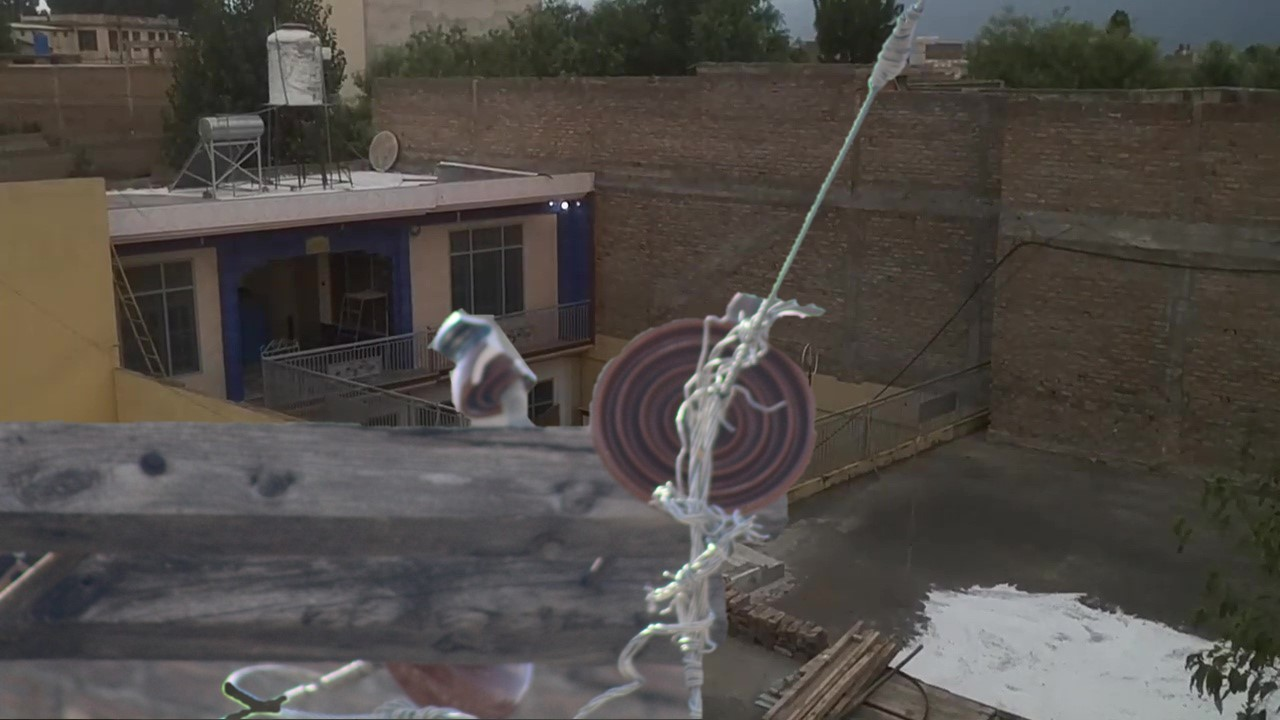defect_pin: (426, 296, 540, 433)
insulator_disc: (585, 306, 822, 517)
